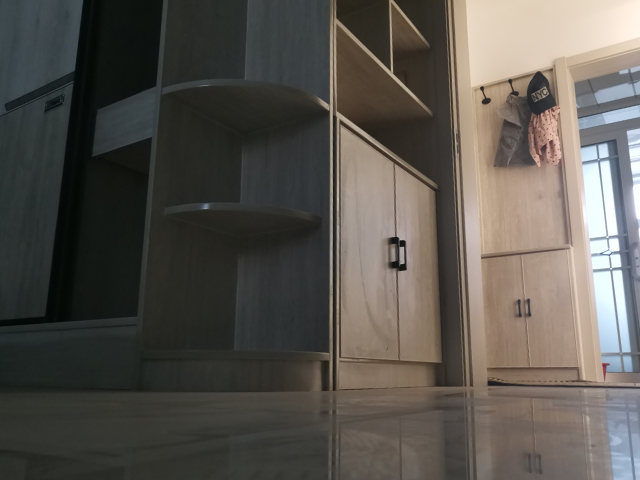cabinet: (1, 77, 336, 389), (333, 112, 466, 392), (483, 242, 603, 386)
carpet: (485, 379, 640, 389)
